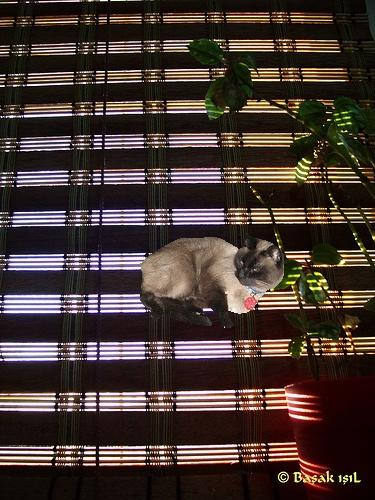tampered: (141, 234, 284, 328)
